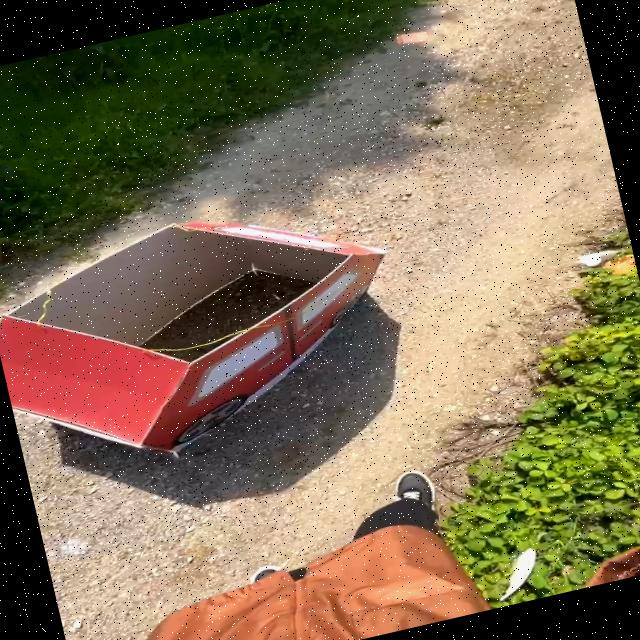red_car: (0, 154, 445, 499)
